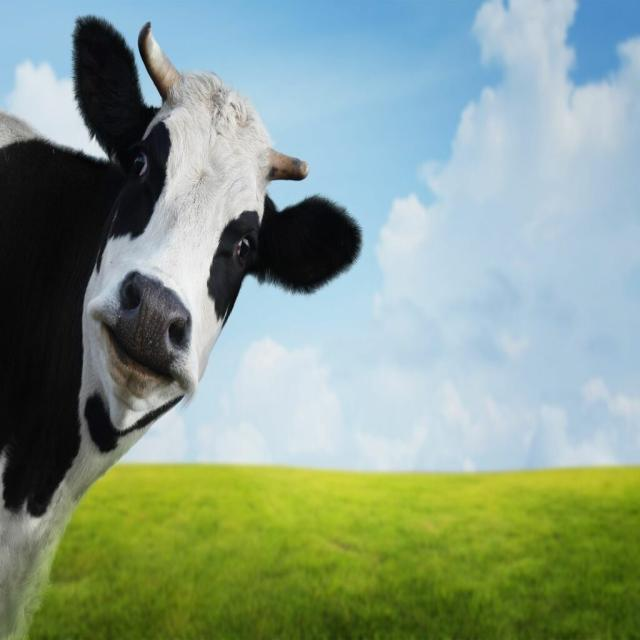Herbivorous: (0, 14, 361, 640)
